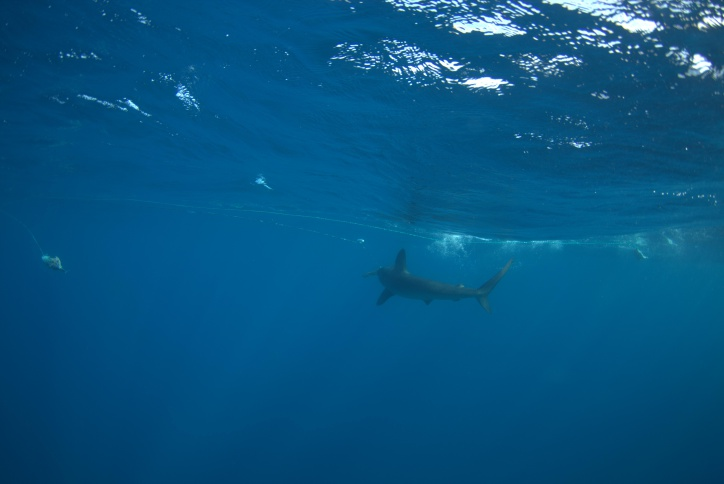Hammer: (363, 244, 522, 338)
